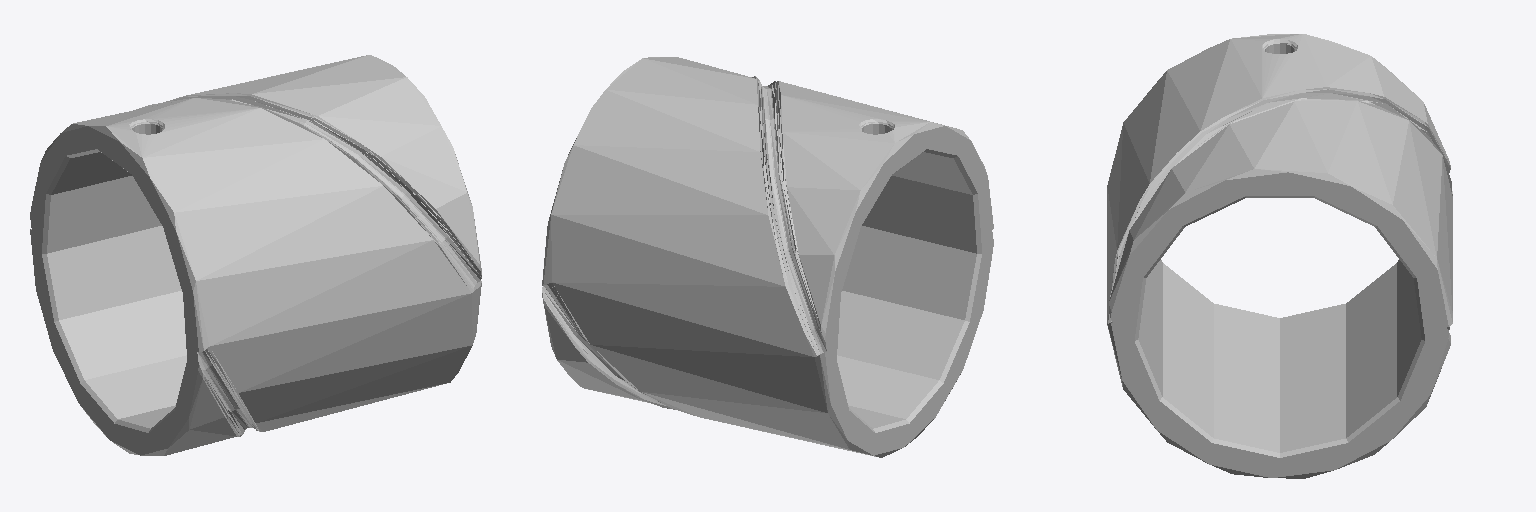
The model's file is 74. Втулка распорная.obj.
The picture shows the model from 3 angles: view 1: azimuth 30°, elevation 25°; view 2: azimuth 150°, elevation 25°; view 3: azimuth 270°, elevation 25°; orthographic projection.
Parts seen in each view (by area): view 1: Твердое тело1; view 2: Твердое тело1; view 3: Твердое тело1.
Boxes of the visible parts, <box> form: Твердое тело1: <box>30,55,481,455</box>; Твердое тело1: <box>542,57,993,457</box>; Твердое тело1: <box>1107,34,1452,478</box>.
Size of the model in its own units: 43.5 by 45.92 by 46.